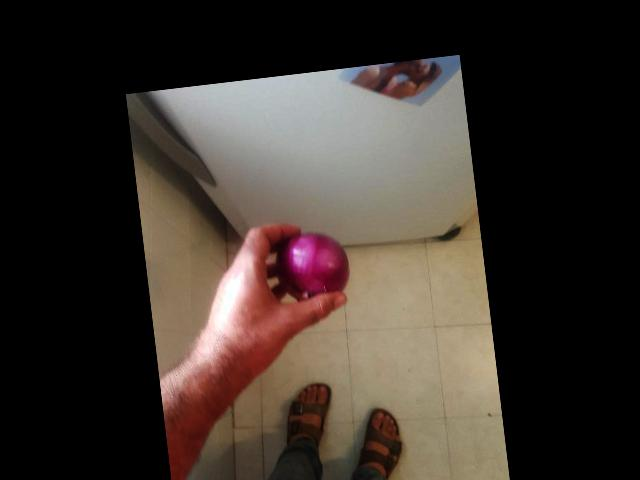onion: (273, 230, 356, 312)
